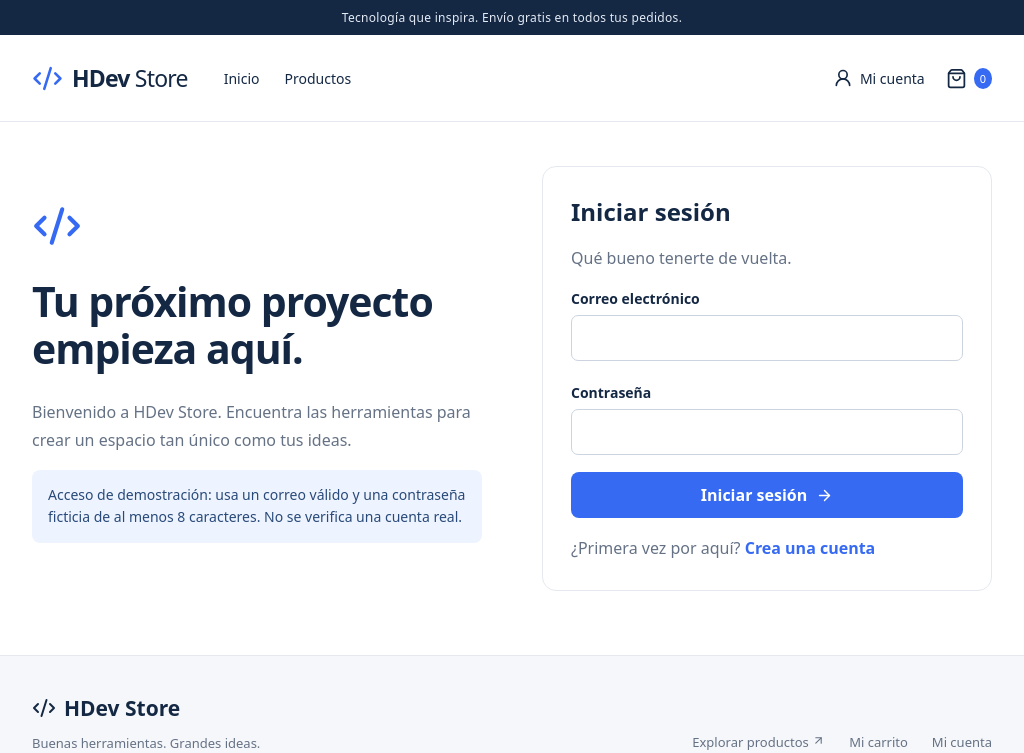
Scenario: Login › inicia una sesión simulada y vuelve a la tienda
This screenshot has width=1024, height=753.
Type "demo@example.com" into the field labelled "Correo electrónico" at (767, 338), box [571,315,963,361]
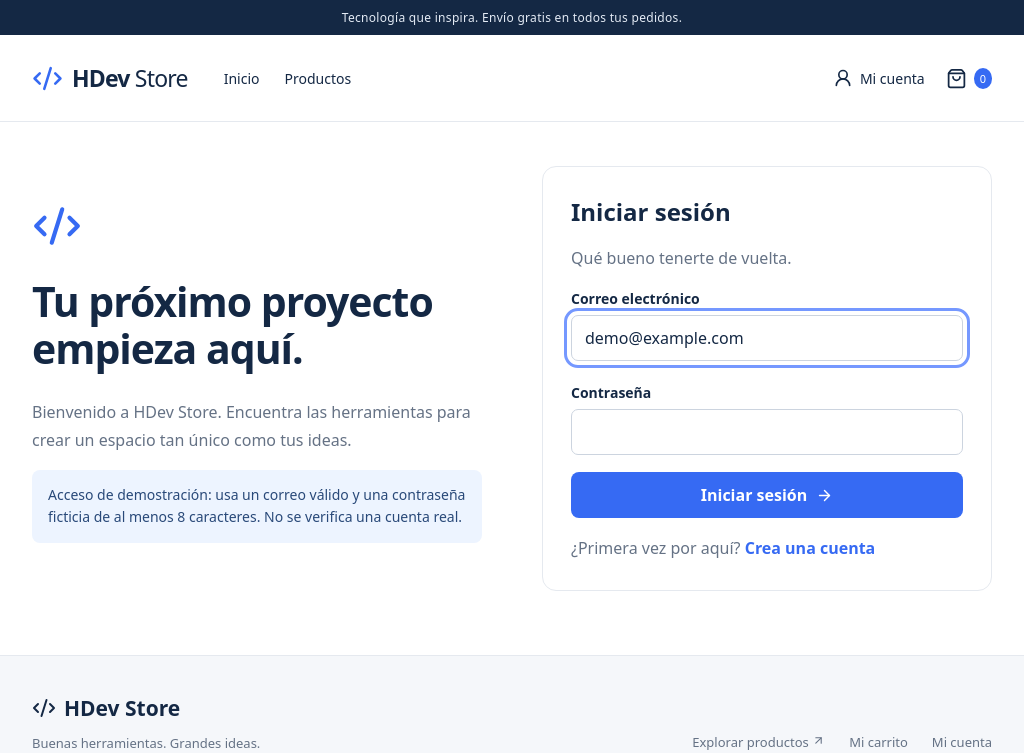
Type "ejemplo123" into the password field labelled "Contraseña" at (767, 432), box [571,409,963,455]
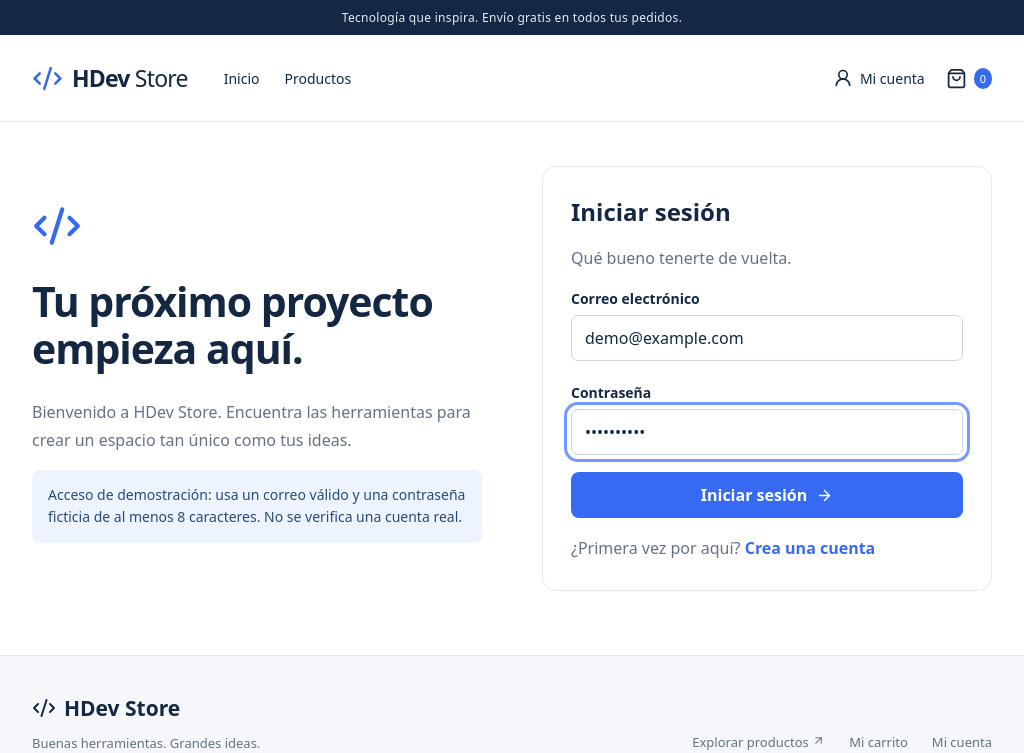
Click the button "Iniciar sesión" at (767, 495), box [571,472,963,518]
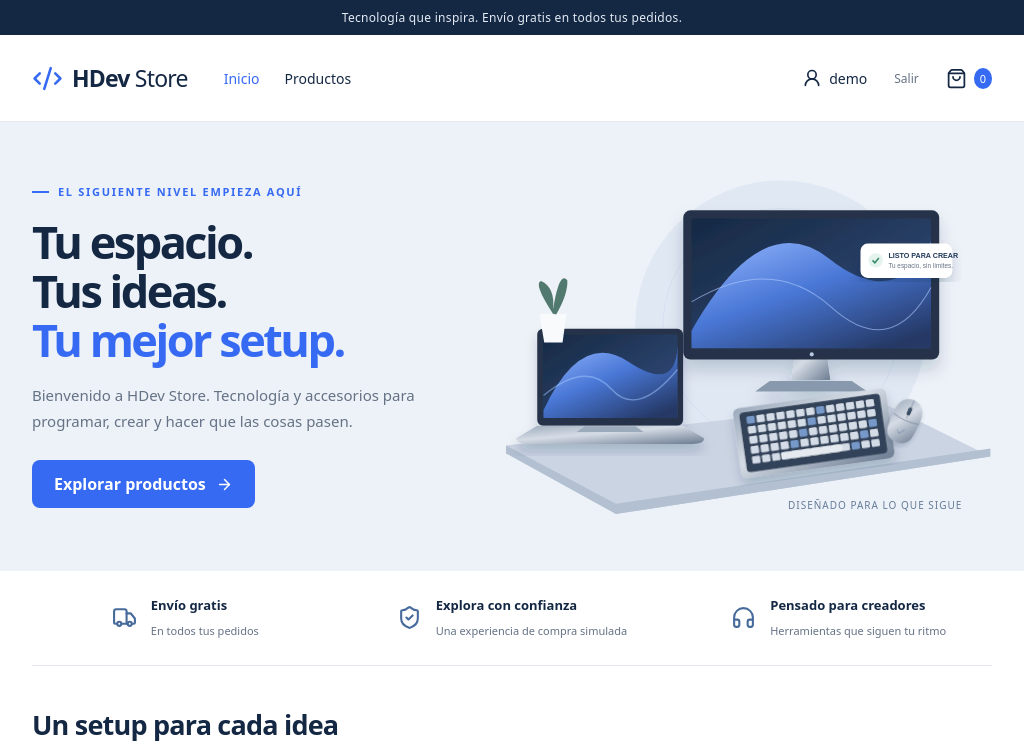
Expected: the heading "Tu espacio.Tus ideas.Tu mejor setup." is shown, [32,212,344,370]
